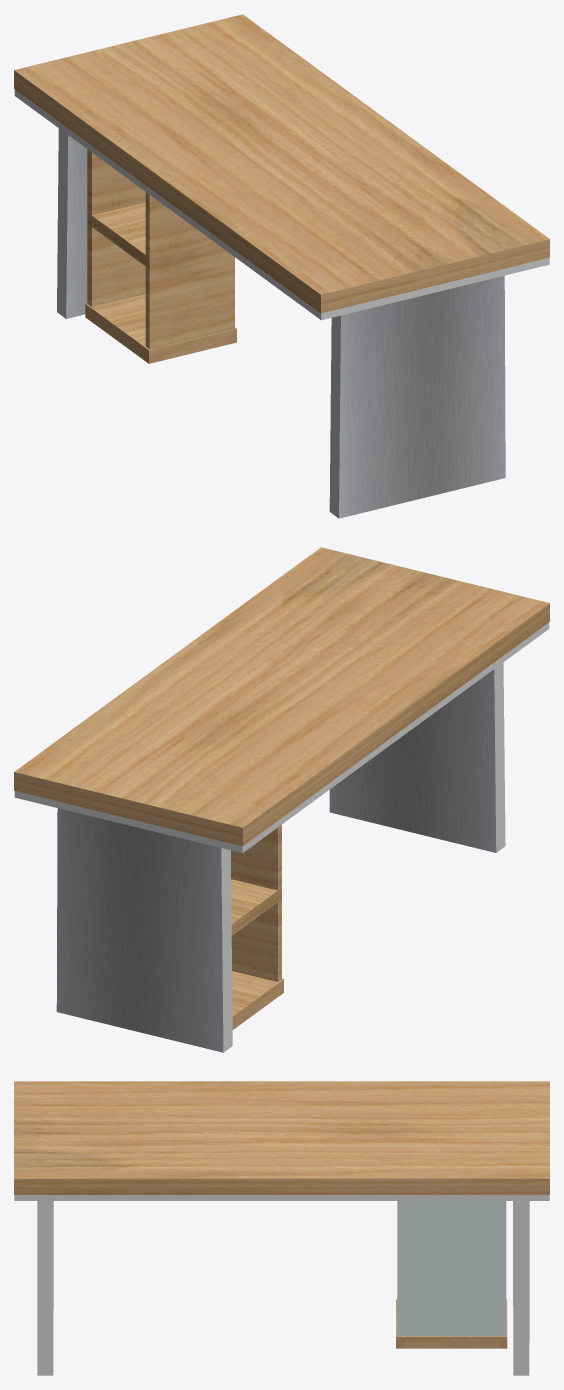
Rendered from wtable.fbx.
3 views of the same model, one above another, from view 1: azimuth 30°, elevation 25°; view 2: azimuth 150°, elevation 25°; view 3: azimuth 270°, elevation 25° (orthographic). The views are drawn at different scales.
Visible parts, largest first — view 1: polySurface106; view 2: polySurface106; view 3: polySurface106.
Boxes of the visible parts, bbox=[...] form: polySurface106: bbox=[14, 14, 549, 518]; polySurface106: bbox=[14, 547, 549, 1052]; polySurface106: bbox=[14, 1081, 549, 1375].
Bounding box in the file's own units: 98.24 × 98.88 × 228.
